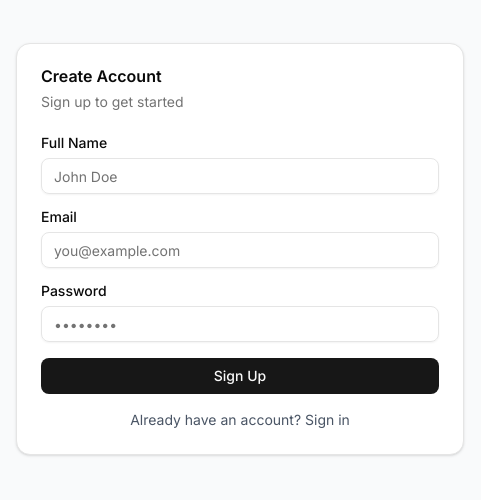
RegisterPage › shows error when Supabase sign-in fails after registration (e.g. email confirmation required)
Step 1. Type "user@example.com" into the field labelled "Email" → (240, 250), box [41,232,439,268]
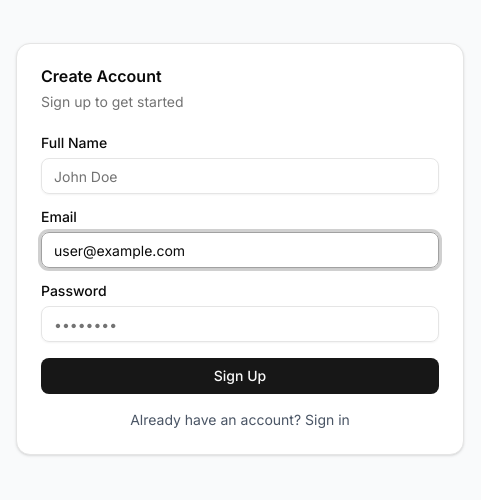
Step 2. Type "securepassword" into the password field labelled "Password" → (240, 324), box [41,306,439,342]
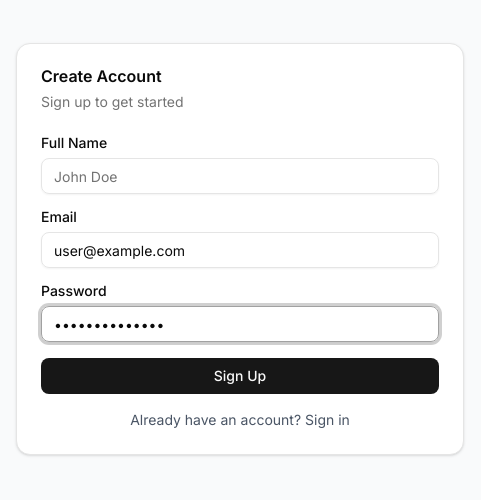
Step 3. Click the button "Sign Up" → (240, 376), box [41,358,439,394]
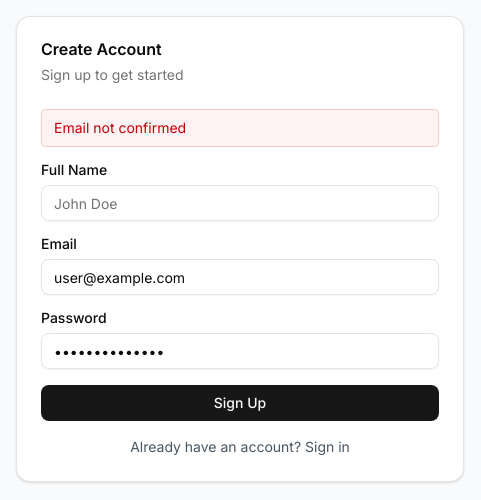
Result: the text "Email not confirmed" is shown at [41,109,439,147]
